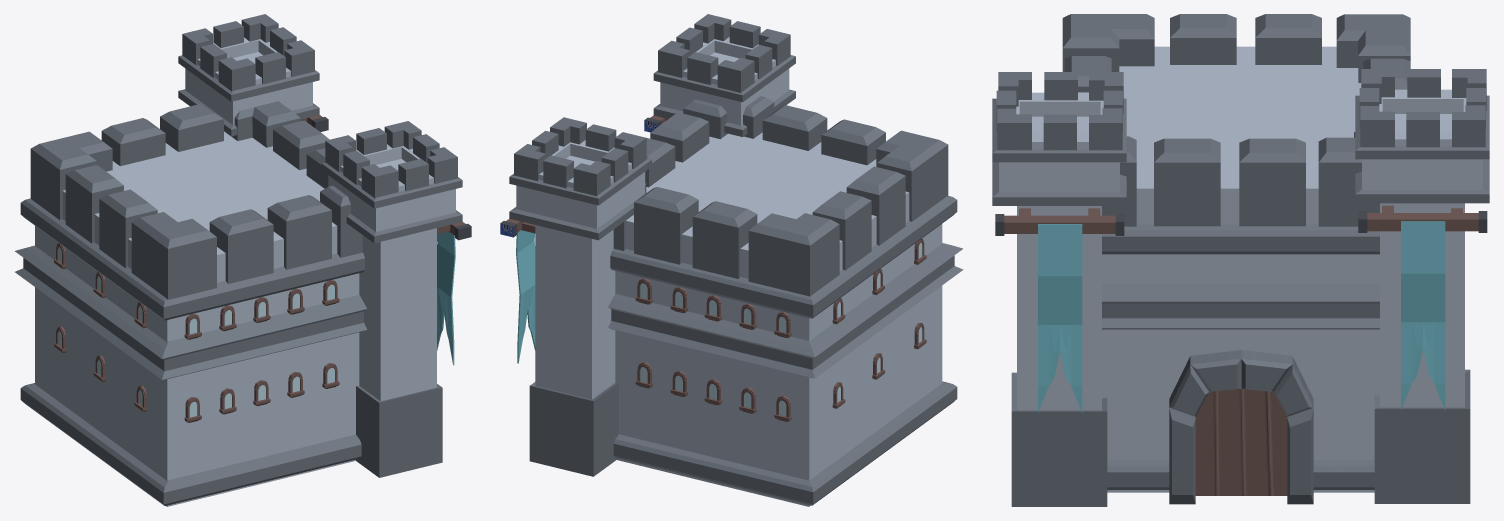
File: castelo.fbx
3 renders of one model, left to right at view 1: azimuth 30°, elevation 25°; view 2: azimuth 150°, elevation 25°; view 3: azimuth 270°, elevation 25°, orthographic. The views are drawn at different scales.
Parts seen in each view (by area): view 1: Castelo; view 2: Castelo; view 3: Castelo.
Part boxes in pixels (box(x1,y1,x2,y2)): Castelo: box(15, 14, 471, 506); Castelo: box(500, 14, 963, 506); Castelo: box(992, 14, 1489, 506).
Bounding box in the file's own units: 1537 × 1586 × 1806.
